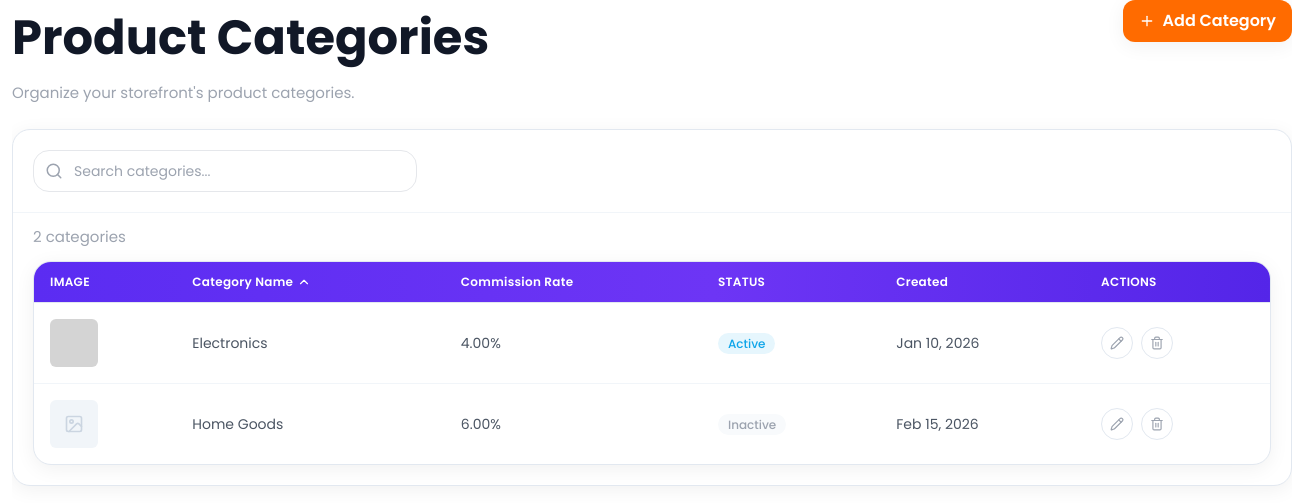
Test: CategoriesPage › filters the visible rows as the user types in the search box
Check: the text "Electronics" is shown, box [176, 302, 445, 383]
Type "Home" into the field labelled "Search categories" at (225, 171), box [33, 150, 417, 192]
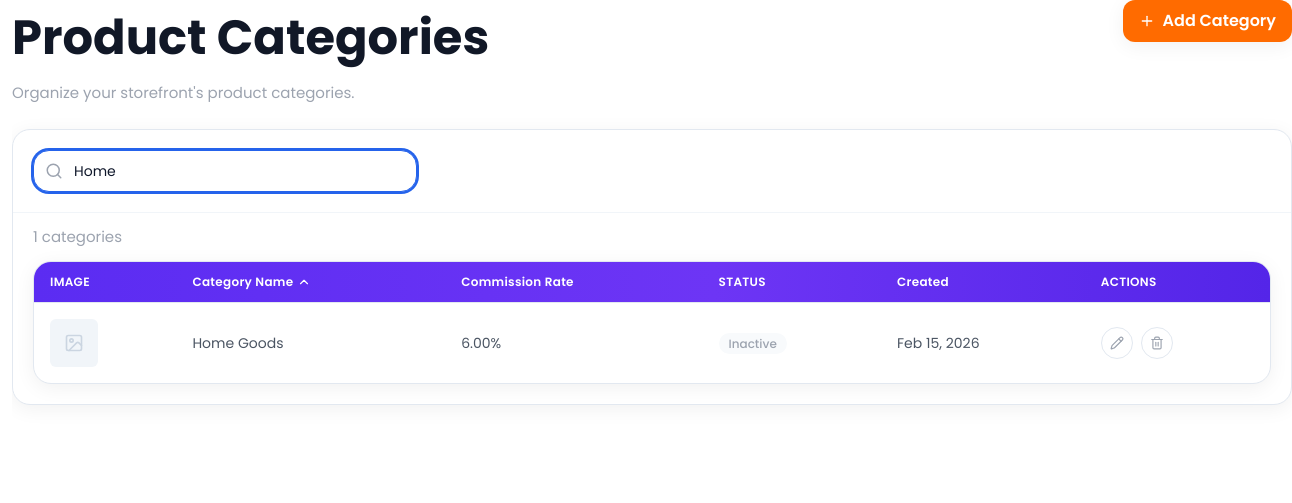
Check: the text "Home Goods" is shown, box [176, 302, 445, 383]
Check: the text "Electronics" is gone
